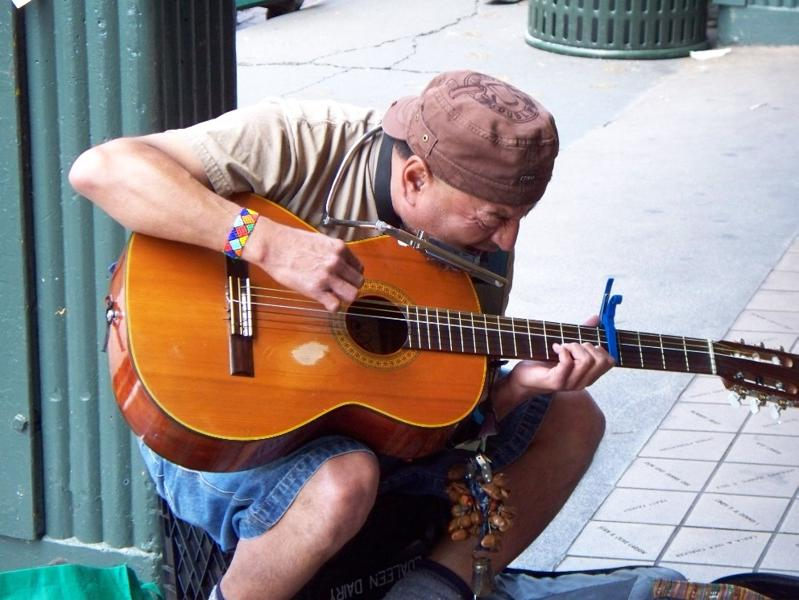person: (66, 68, 602, 598)
